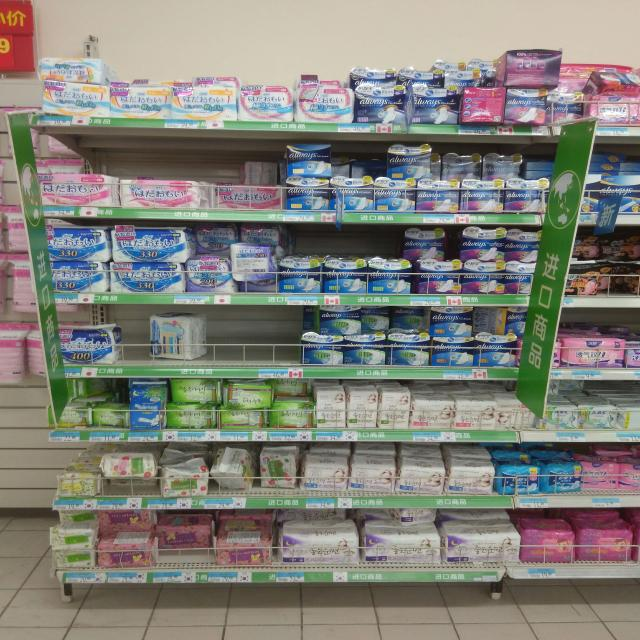void: (208, 308, 244, 376), (246, 308, 274, 378), (276, 308, 299, 380), (121, 308, 147, 361), (621, 233, 639, 309), (620, 319, 640, 378), (622, 381, 640, 446)
